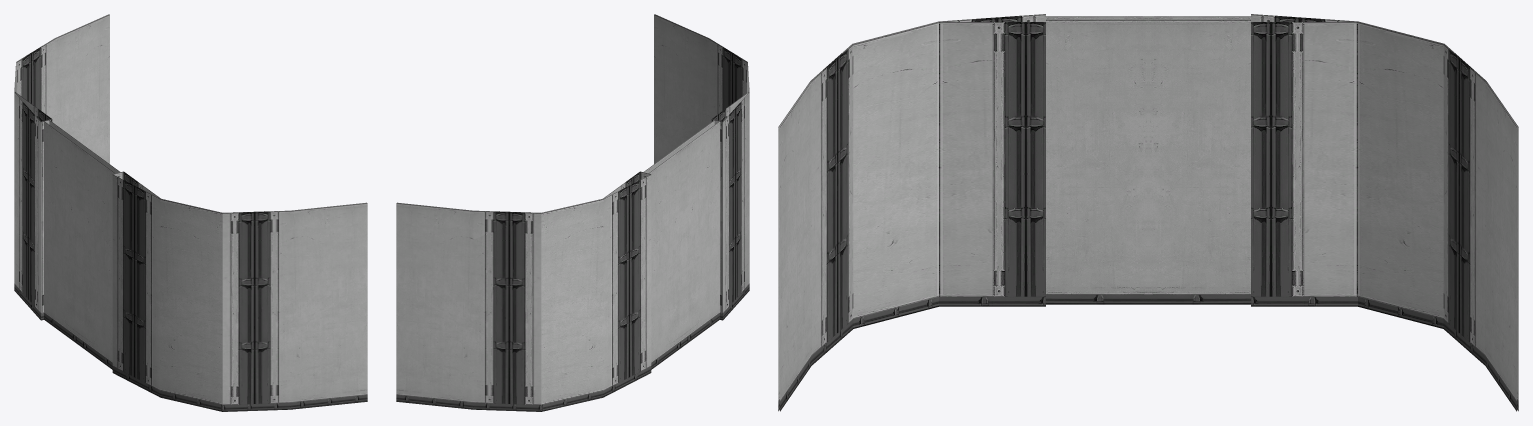
Rendered from Pre_Elevator_entbackb_LOW.FBX.
3 renders of one model, left to right at view 1: azimuth 30°, elevation 25°; view 2: azimuth 150°, elevation 25°; view 3: azimuth 270°, elevation 25°, orthographic. The views are drawn at different scales.
Parts seen in each view (by area): view 1: Pre_Elevator_entbackb_LOW; view 2: Pre_Elevator_entbackb_LOW; view 3: Pre_Elevator_entbackb_LOW.
Part boxes in pixels (box(x1,y1,x2,y2)): Pre_Elevator_entbackb_LOW: box(14, 14, 367, 411); Pre_Elevator_entbackb_LOW: box(396, 14, 749, 411); Pre_Elevator_entbackb_LOW: box(778, 14, 1518, 411).
Size of the model in its own units: 3.41 by 4 by 9.43.
